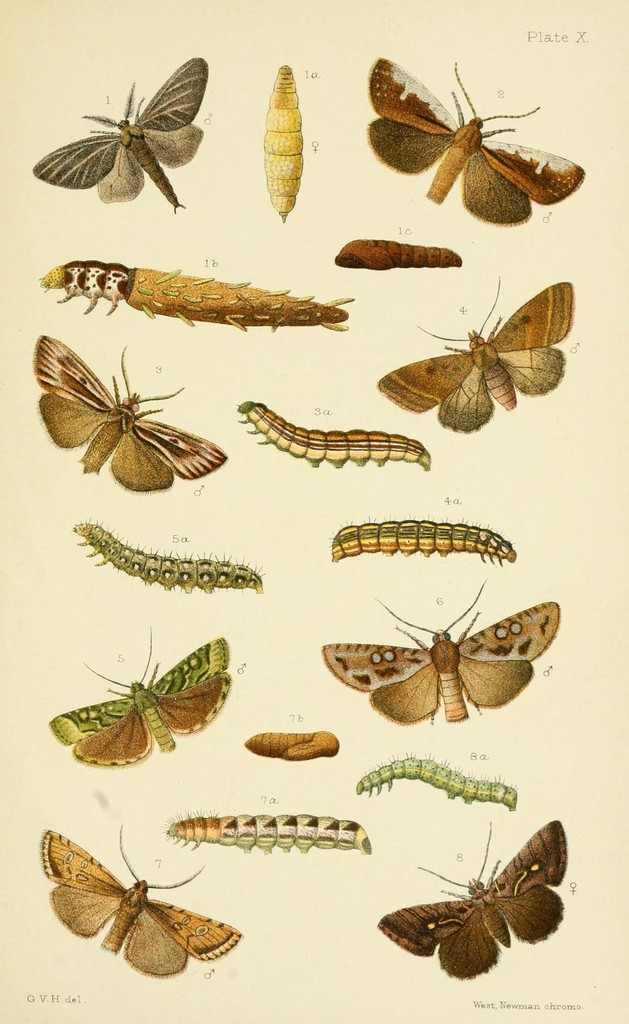Butterfly: (360, 52, 600, 219), (288, 584, 561, 730), (375, 817, 592, 990), (24, 826, 247, 992), (25, 329, 232, 501), (28, 50, 217, 230), (28, 629, 241, 784), (377, 279, 579, 430)
